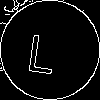L: (25, 25, 60, 75)
